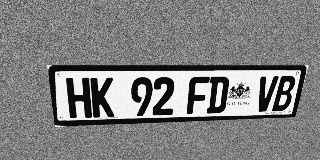2: (153, 77, 175, 115)
9: (131, 77, 153, 116)
B: (272, 76, 297, 111)
D: (206, 76, 230, 114)
F: (187, 77, 210, 114)
H: (66, 78, 92, 118)
K: (90, 77, 114, 118)
V: (254, 76, 279, 112)
